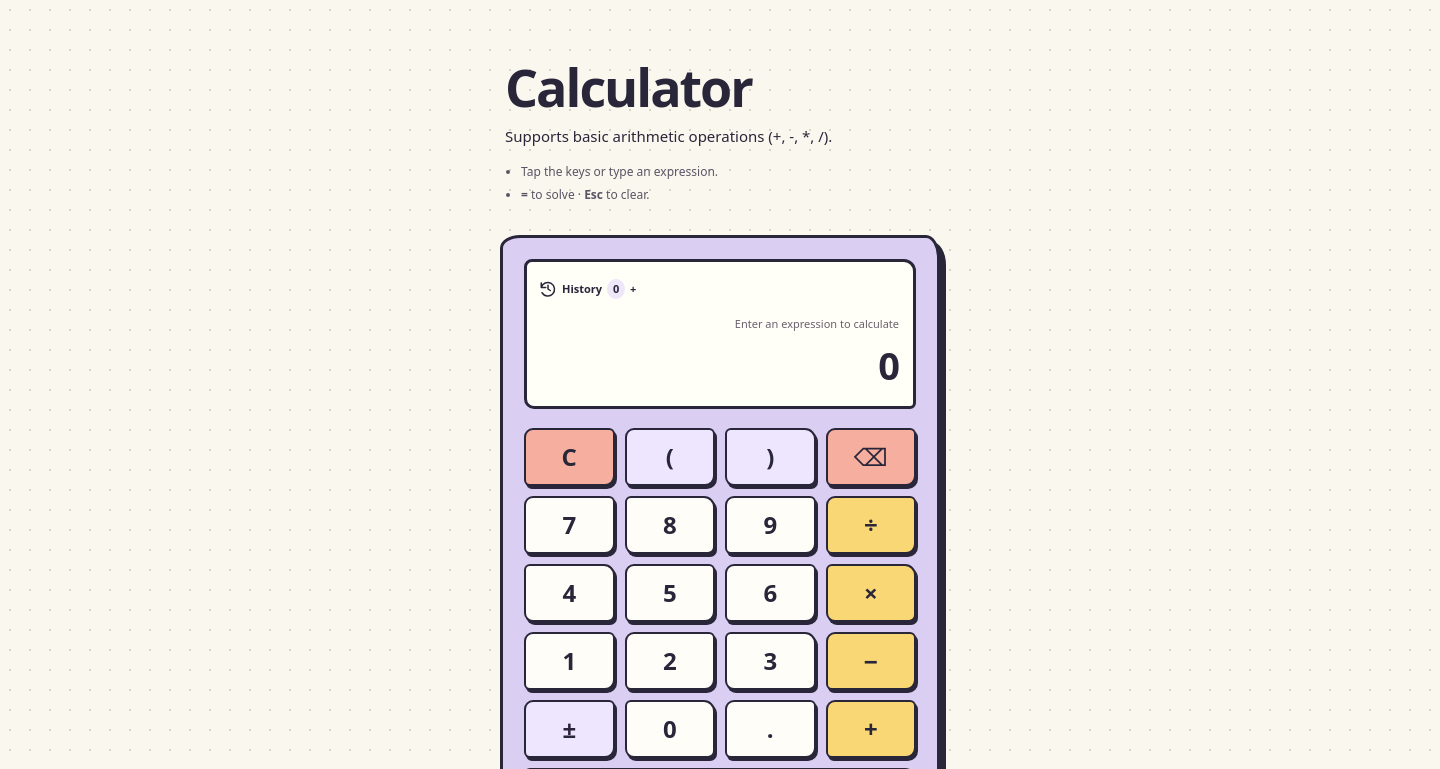
it: calculator acceptance criteria › allows negative operands from the keyboard and sign before a number
Click the button named "Toggle sign": (569, 729) [524,700,614,758]
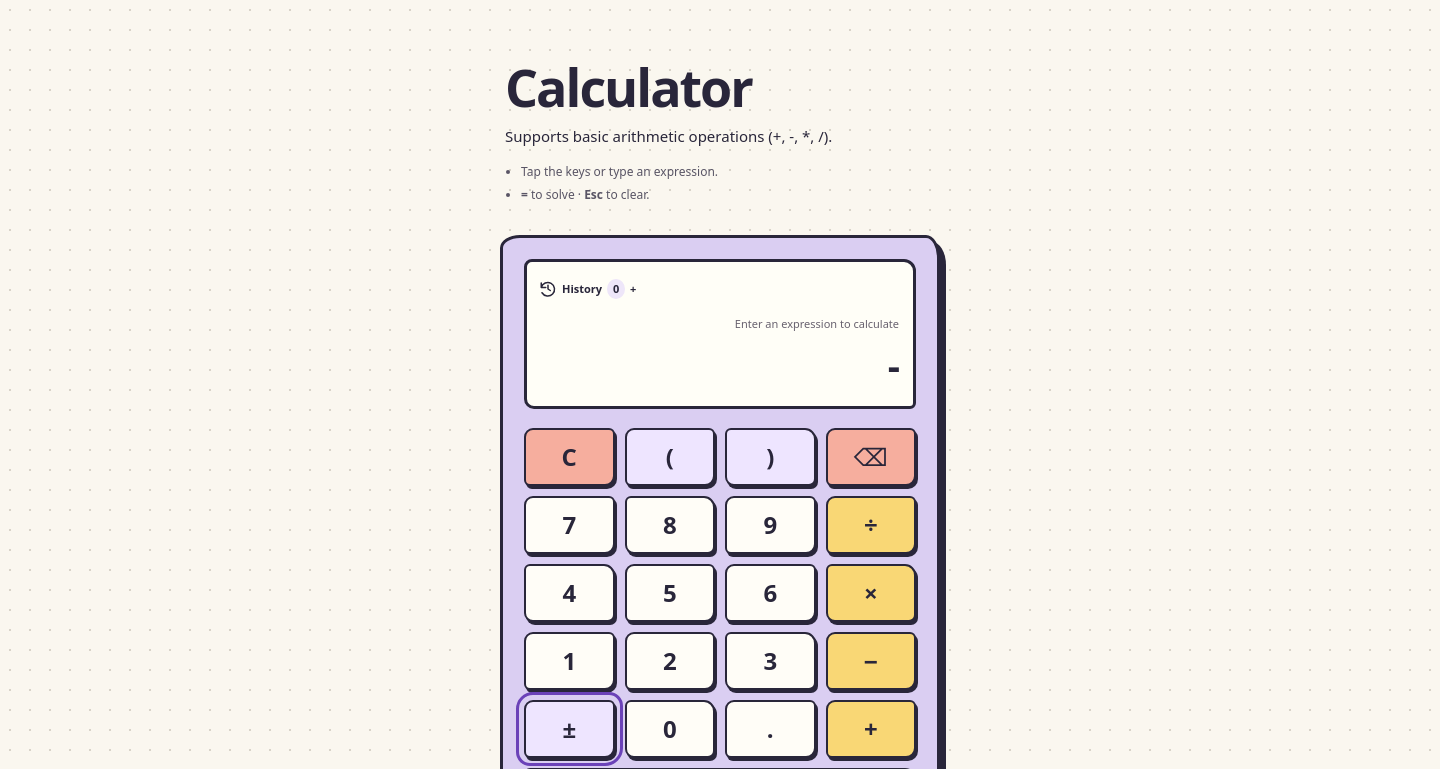
Type keys ".5+-0.5="
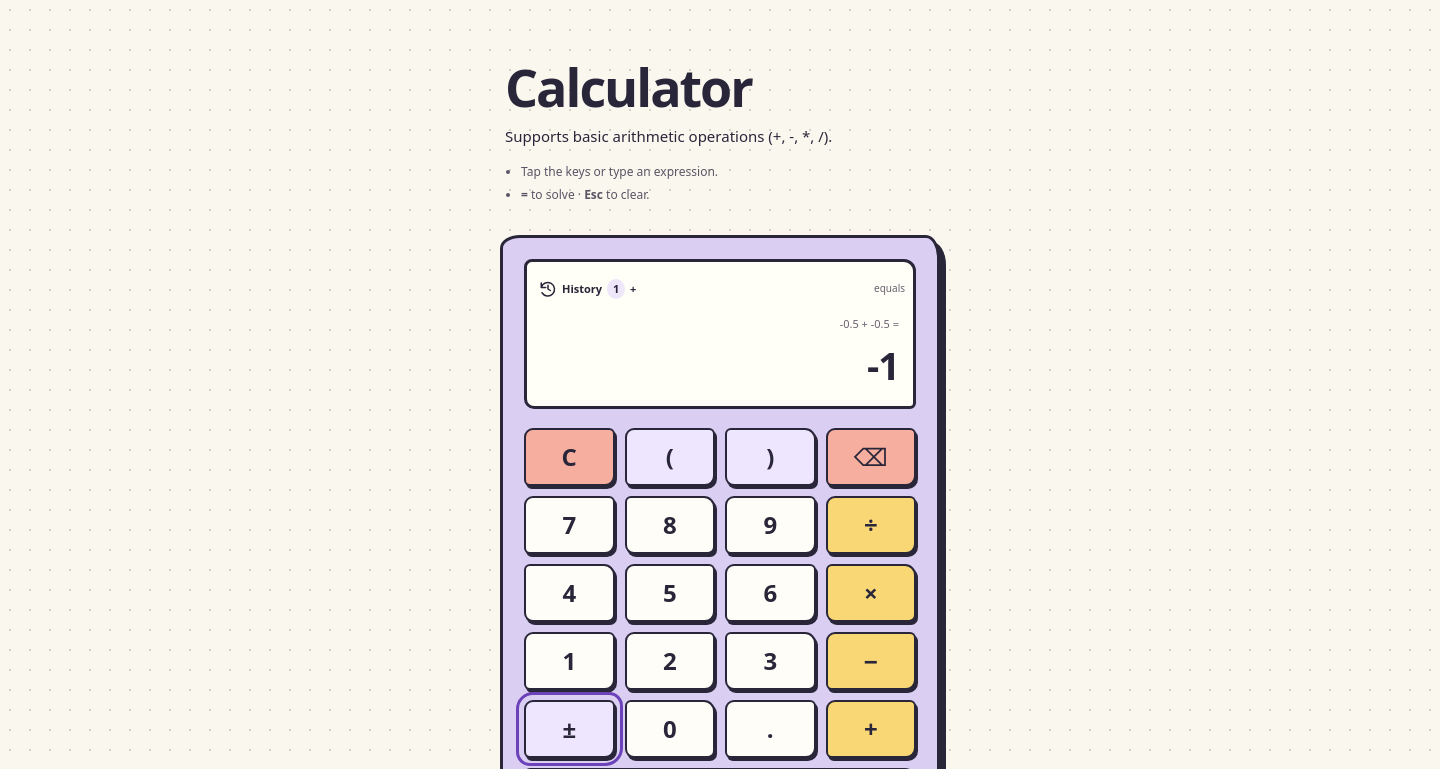
Now the message named "Result" is shown, box [867,339,899,391]
